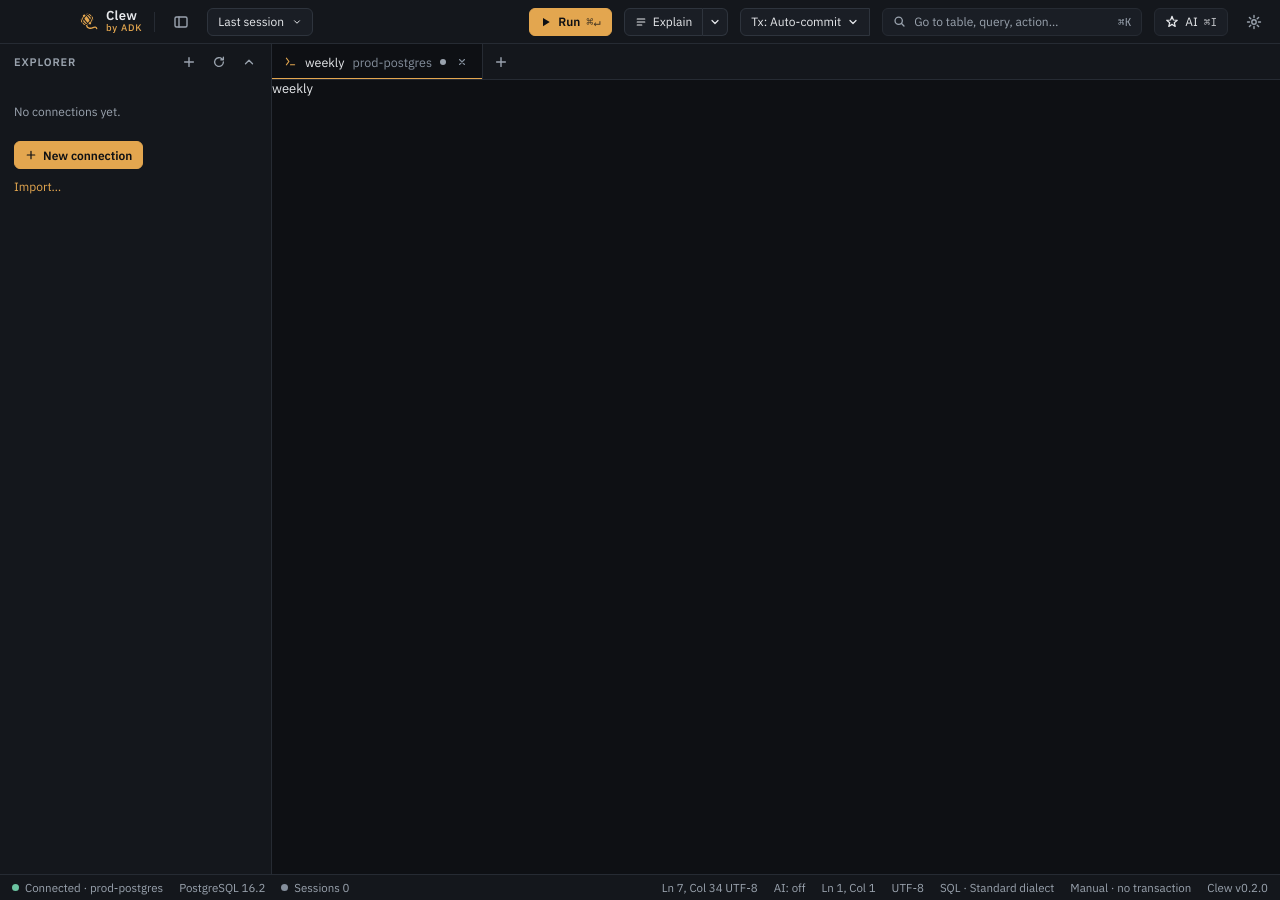
dirty close prompt › asks Save / Discard / Cancel before closing a dirty tab (spec: app-shell › Close a tab with unsaved changes)
The width and height of the screenshot is (1280, 900).
Click the button named "Close weekly" at (462, 62), box [454, 54, 470, 70]
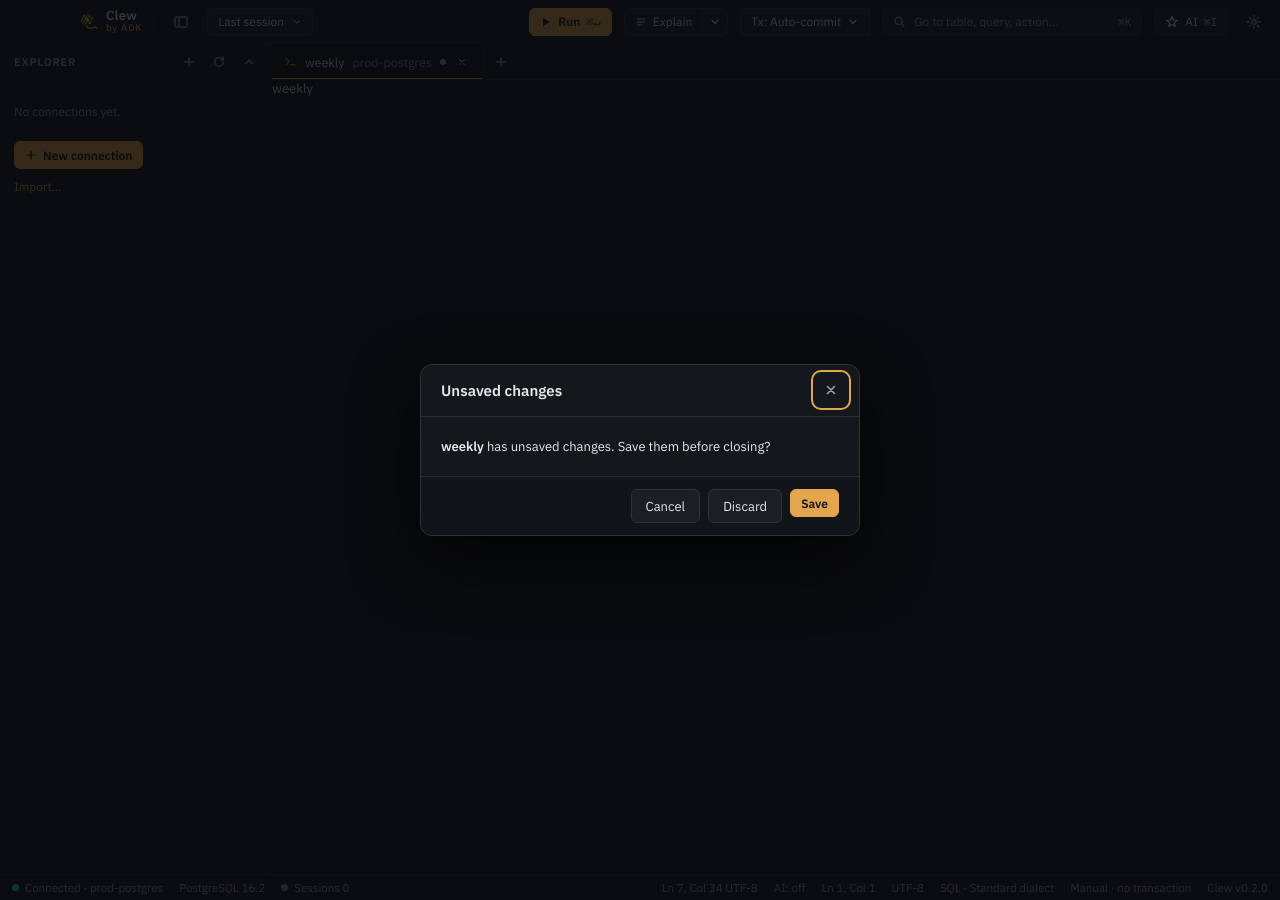
Result: the dialog "Unsaved changes" is shown at [420, 364, 860, 536]
Result: the button "Save" is shown at [790, 489, 839, 517]
Result: the button "Discard" is shown at [708, 489, 782, 523]
